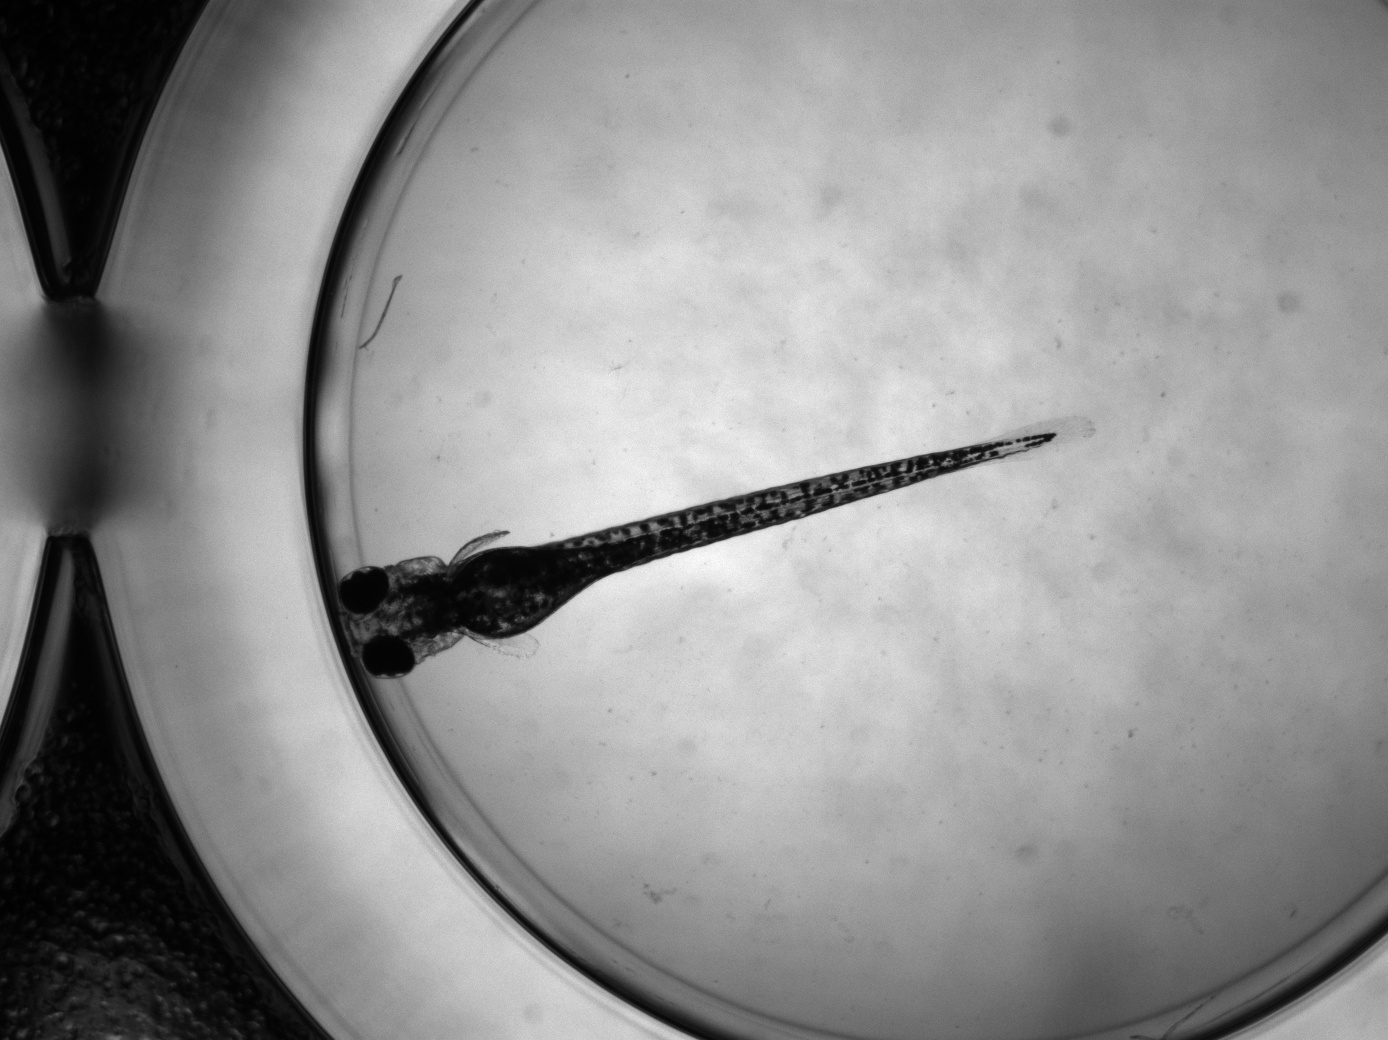embryo: (333, 432, 1059, 679)
eye: (339, 566, 390, 615), (361, 635, 416, 679)
yolksac: (452, 546, 553, 639)
